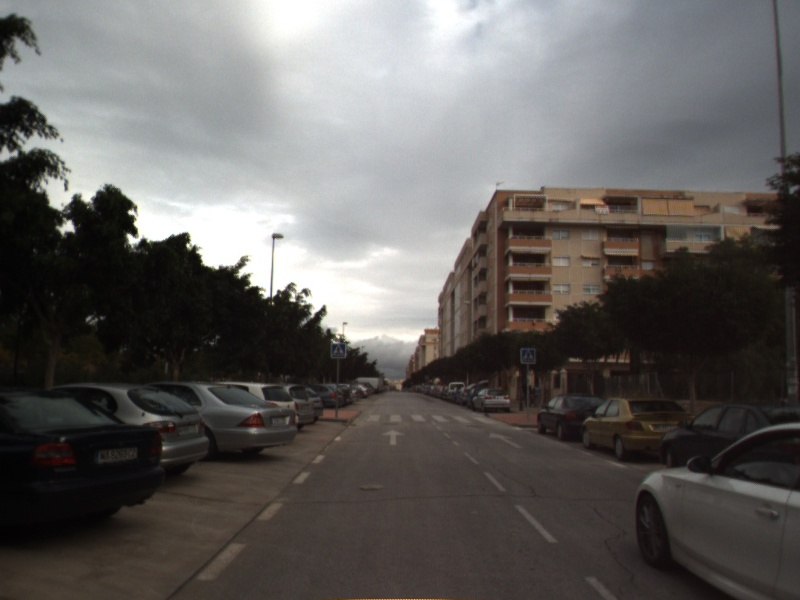STRAIGHT: (487, 430, 525, 450), (380, 427, 408, 447)
